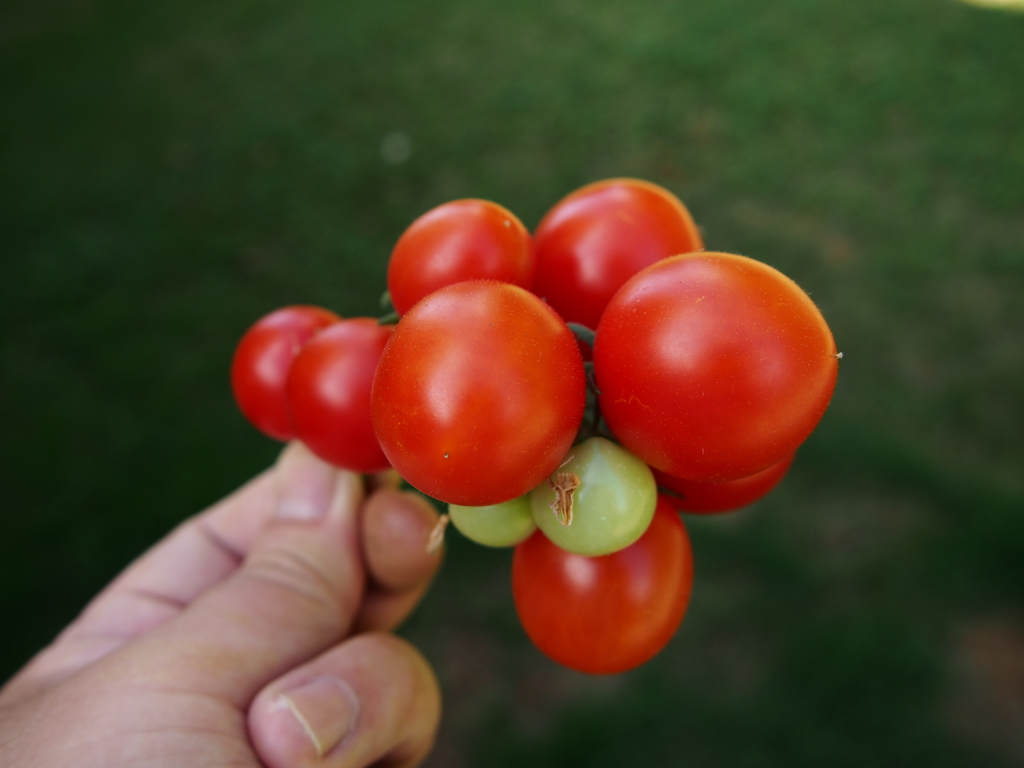Tomato: (233, 173, 696, 673), (577, 240, 853, 505)
